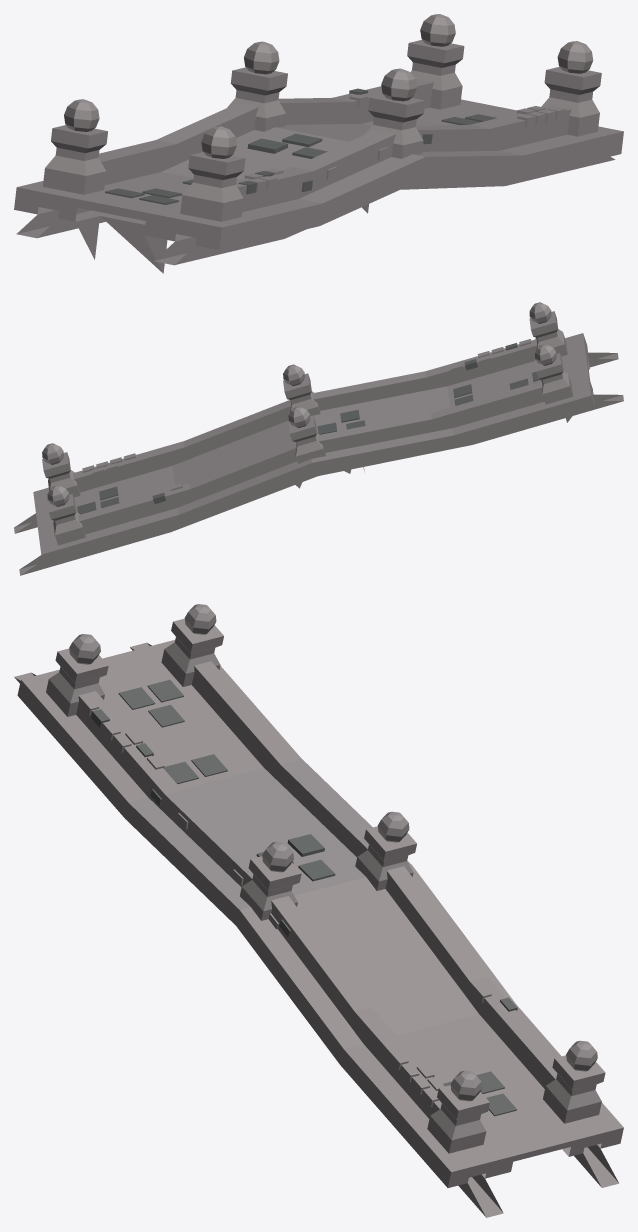
Rendered from path.glb.
The picture shows the model from 3 angles, top to bottom: view 1: azimuth 30°, elevation 25°; view 2: azimuth 150°, elevation 25°; view 3: azimuth 270°, elevation 25°; orthographic projection. The views are drawn at different scales.
Visible parts, largest first — view 1: node-0; view 2: node-0; view 3: node-0.
Boxes of the visible parts, x1,y1,x2,y2 form: node-0: (14,14,623,273); node-0: (14,302,623,575); node-0: (14,604,623,1217).
Size of what is drawn, in the model's own units: 21.08 by 8.93 by 15.74.
1 material, 1 textured.
